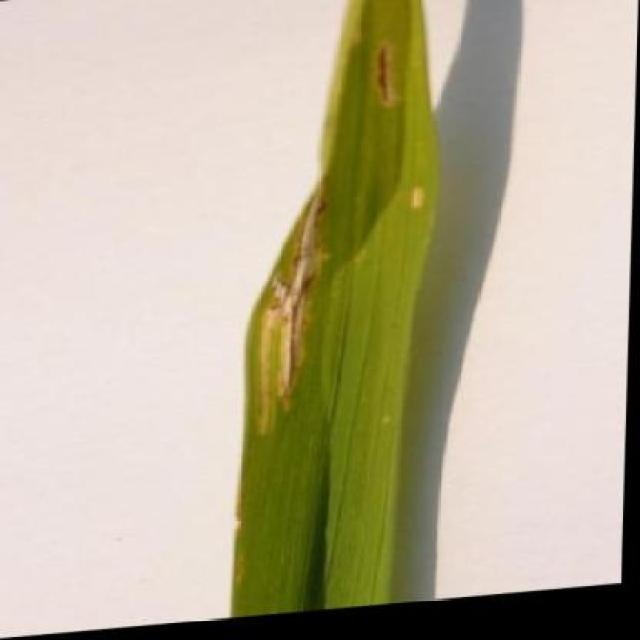Brown_Spot: (208, 0, 488, 622)
